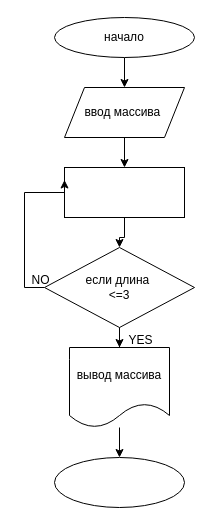
This 212x525 diagram has some shape labels left out. The centre of each missing label's shape, as x and y in pixels:
конец: point (119, 482)
новый массив: point (124, 192)
